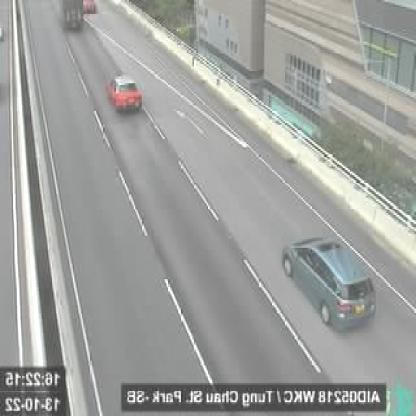Car: (282, 235, 376, 333), (104, 71, 143, 115)
Truck: (55, 0, 84, 32)
